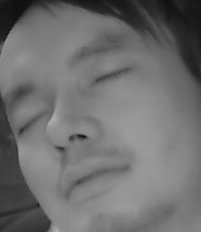blink: (92, 61, 130, 88), (17, 109, 51, 136)
mouth: (55, 153, 131, 203)
